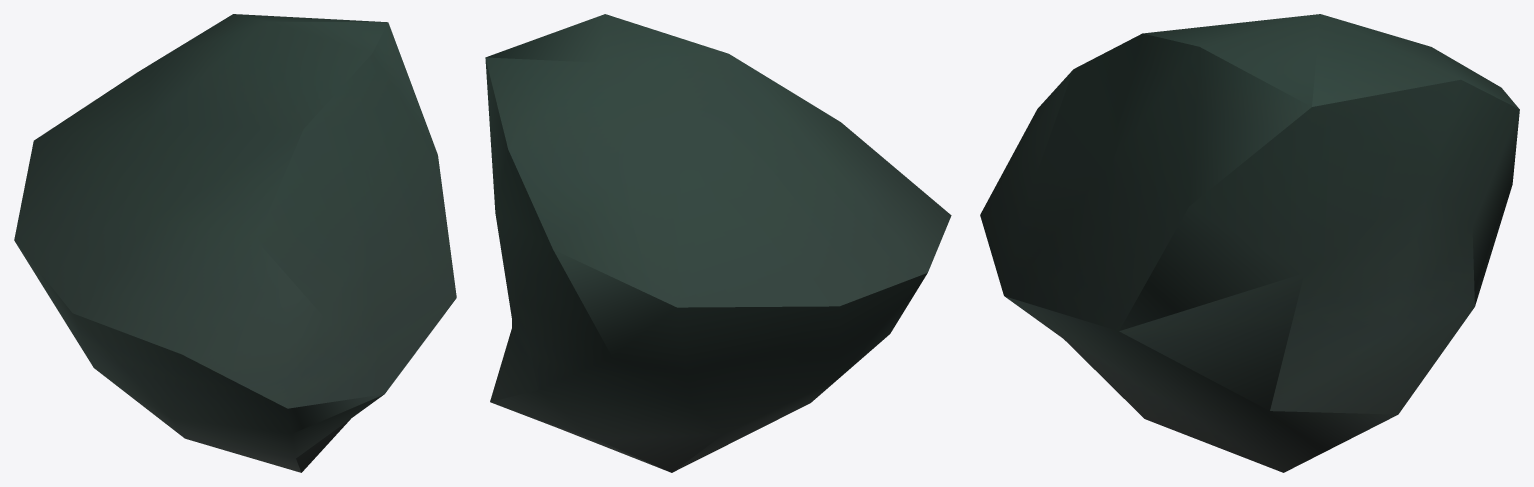
File: SM_Rock_09.fbx
3 views of the same model, side by side, from view 1: azimuth 30°, elevation 25°; view 2: azimuth 150°, elevation 25°; view 3: azimuth 270°, elevation 25° (orthographic). The views are drawn at different scales.
Visible parts, largest first — view 1: SM_Rock_09; view 2: SM_Rock_09; view 3: SM_Rock_09.
Boxes of the visible parts, <box> form: SM_Rock_09: <box>14,14,456,472</box>; SM_Rock_09: <box>485,14,951,472</box>; SM_Rock_09: <box>980,14,1519,472</box>.
Bounding box in the file's own units: 73.28 × 72.51 × 82.08.
Materials: 1 (1 with a texture image).
